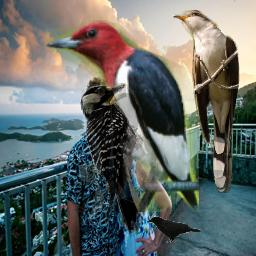Crow: (145, 215, 201, 243)
Cuckoo: (172, 10, 240, 193)
Woodpecker: (45, 20, 199, 212), (79, 83, 156, 240)
